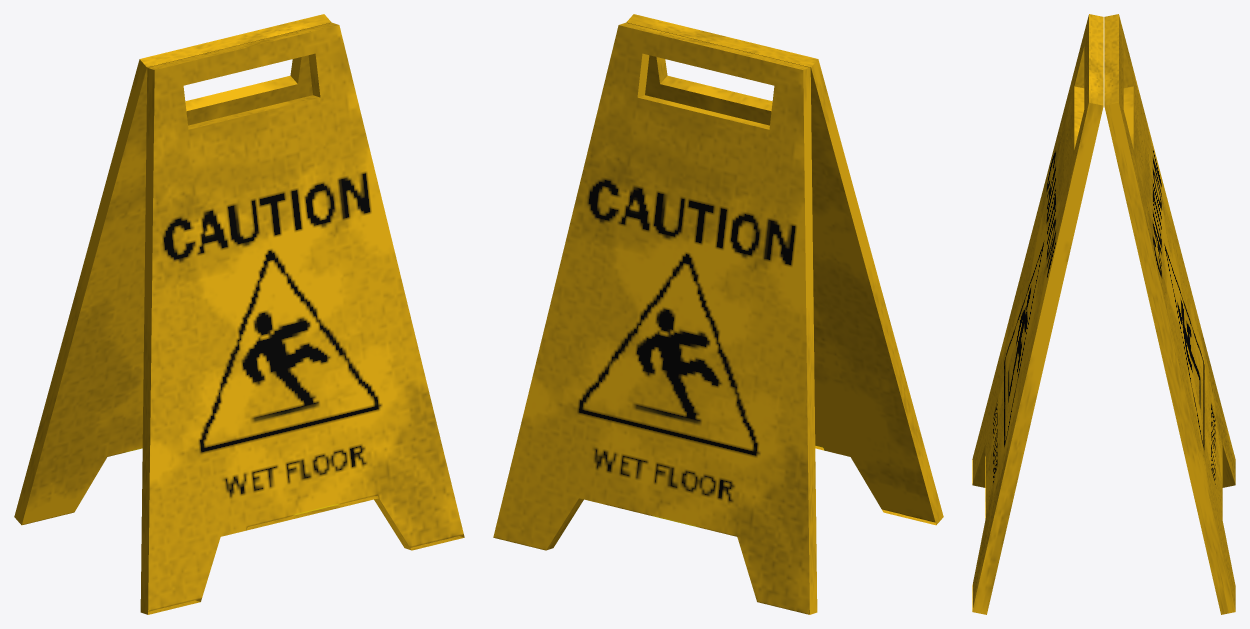
File: sueloMojado.fbx
3 views of the same model, side by side, from view 1: azimuth 30°, elevation 25°; view 2: azimuth 150°, elevation 25°; view 3: azimuth 270°, elevation 25° (orthographic).
Visible parts, largest first — view 1: side1, side2; view 2: side2, side1; view 3: side1, side2.
Boxes of the visible parts, x1,y1,x2,y2 form: side1: [140, 22, 464, 614]; side2: [14, 14, 331, 525]; side2: [493, 22, 817, 614]; side1: [626, 14, 943, 525]; side1: [972, 14, 1103, 614]; side2: [1104, 14, 1235, 614].
Bounding box in the file's own units: 75 × 111 × 54.92.
Materials: 1 (1 with a texture image).
